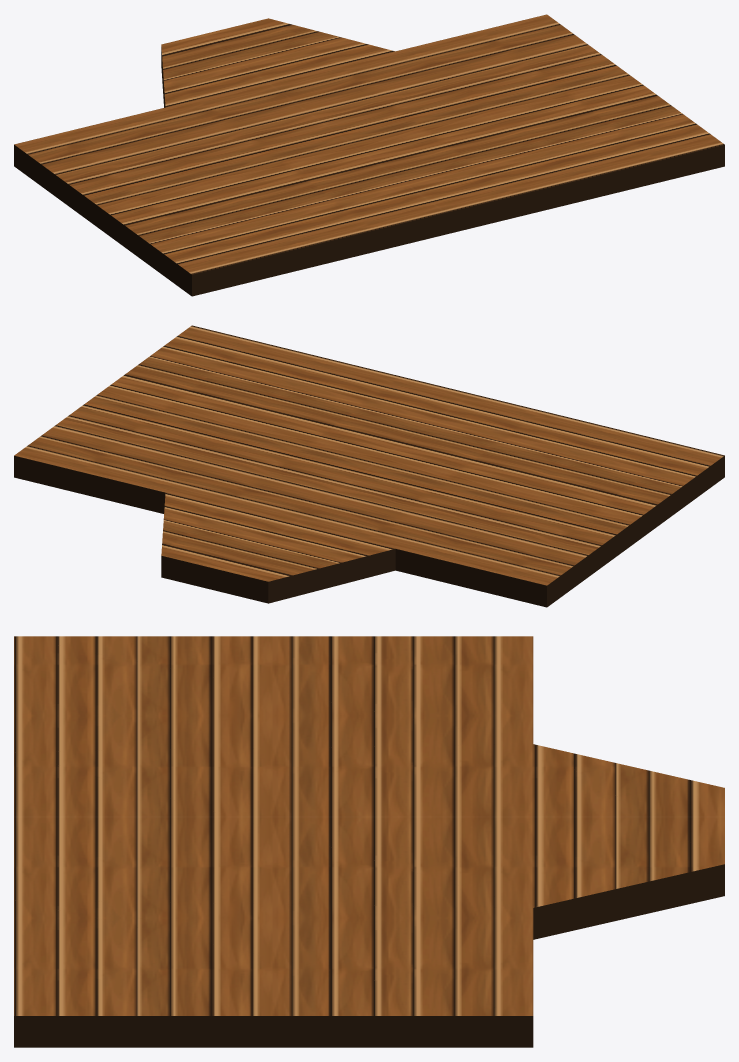
Rendered from h1_plate_a.fbx.
The picture shows the model from 3 angles, top to bottom: view 1: azimuth 30°, elevation 25°; view 2: azimuth 150°, elevation 25°; view 3: azimuth 270°, elevation 25°; orthographic projection. The views are drawn at different scales.
Parts seen in each view (by area): view 1: h1_plate_a; view 2: h1_plate_a; view 3: h1_plate_a.
Part boxes in pixels (<box>): h1_plate_a: <box>14,14,724,296</box>; h1_plate_a: <box>14,325,724,607</box>; h1_plate_a: <box>14,636,724,1047</box>.
Bounding box in the file's own units: 1277 × 50 × 1011.
